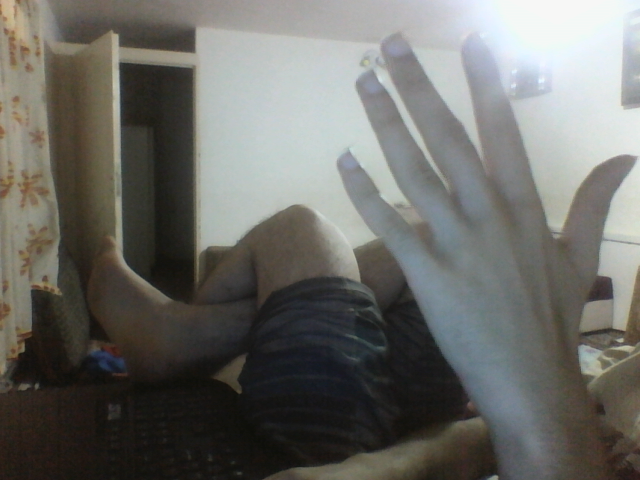taslim: (336, 26, 637, 408)
